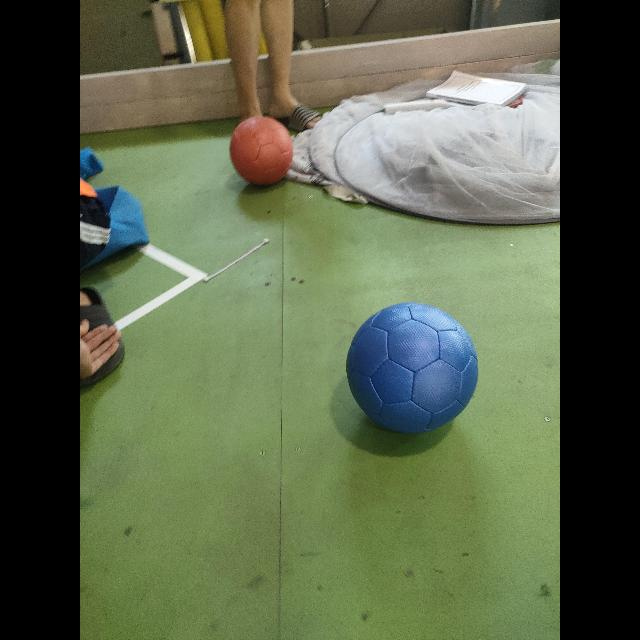B: (345, 303, 479, 438)
R: (229, 115, 294, 188)
